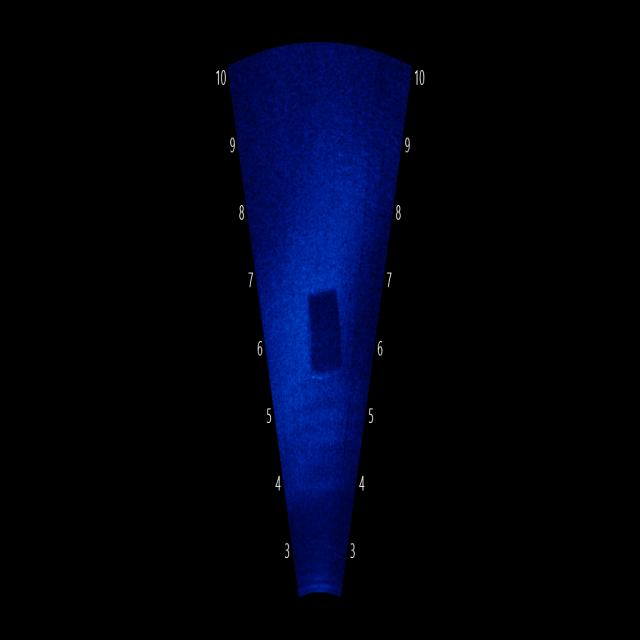square: (296, 245, 359, 411)
